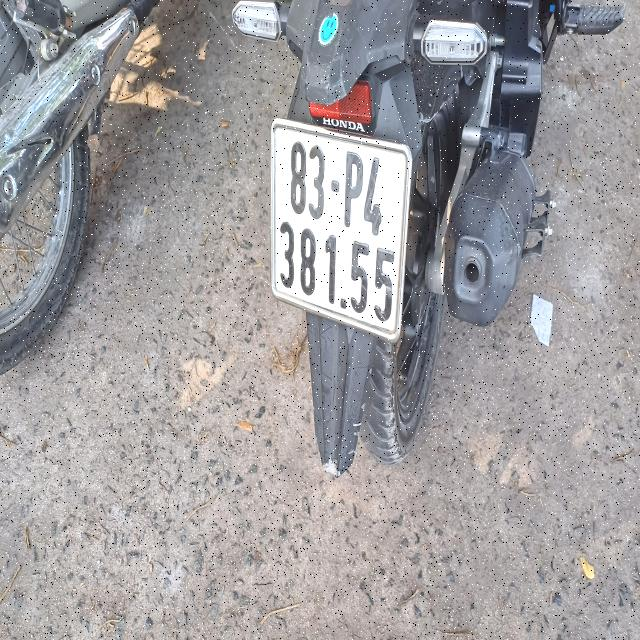1: (325, 232, 337, 308)
3: (278, 219, 296, 290), (309, 143, 324, 223)
4: (363, 155, 385, 238)
5: (374, 247, 395, 322), (351, 240, 370, 316)
8: (289, 138, 306, 218), (300, 225, 317, 297)
P: (341, 148, 365, 228)
